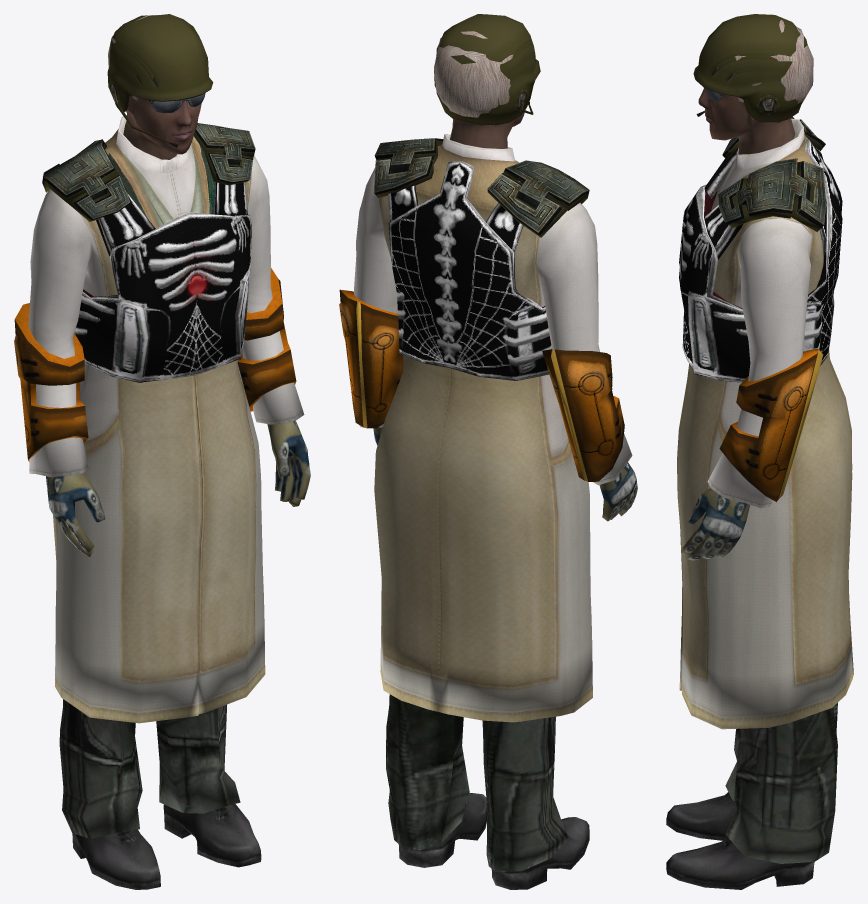
The model's file is m_Average.glb.
The picture shows the model from 3 angles, left to right: view 1: azimuth 30°, elevation 25°; view 2: azimuth 150°, elevation 25°; view 3: azimuth 270°, elevation 25°; orthographic projection.
Parts seen in each view (by area): view 1: Torso4, TorsoArmour2, Legs2, ArmPads2, Helmet1, Shoes1, ShoulderPads1, Hands2, Face1; view 2: Torso4, TorsoArmour2, Legs2, ArmPads2, ShoulderPads1, Helmet1, Shoes1, Hair1, Hands2, Face1; view 3: Torso4, Legs2, TorsoArmour2, Helmet1, ArmPads2, Shoes1, ShoulderPads1, Face1, Hands2, Hair1.
Boxes of the visible parts, <box> form: Torso4: <box>28,115,304,723</box>; TorsoArmour2: <box>74,182,251,382</box>; Legs2: <box>59,699,240,838</box>; ArmPads2: <box>14,268,296,461</box>; Helmet1: <box>107,14,213,147</box>; Shoes1: <box>72,804,261,889</box>; ShoulderPads1: <box>42,123,255,221</box>; Hands2: <box>46,420,310,557</box>; Face1: <box>123,95,201,159</box>; Torso4: <box>354,134,632,722</box>; TorsoArmour2: <box>388,161,551,380</box>; Legs2: <box>386,694,568,871</box>; ArmPads2: <box>339,289,624,481</box>; ShoulderPads1: <box>374,138,589,237</box>; Helmet1: <box>434,14,540,125</box>; Shoes1: <box>398,793,589,889</box>; Hair1: <box>434,31,513,126</box>; Hands2: <box>373,427,637,521</box>; Face1: <box>450,112,524,148</box>; Torso4: <box>677,118,853,729</box>; Legs2: <box>725,703,837,863</box>; TorsoArmour2: <box>679,139,842,382</box>; Helmet1: <box>693,14,807,122</box>; ArmPads2: <box>719,349,823,501</box>; Shoes1: <box>666,792,814,889</box>; ShoulderPads1: <box>718,116,826,232</box>; Face1: <box>698,88,795,154</box>; Hands2: <box>681,488,749,561</box>; Hair1: <box>734,20,813,124</box>.
Bounding box in the file's own units: 33.91 × 103 × 21.14.
Materials: 12 (12 with a texture image).
